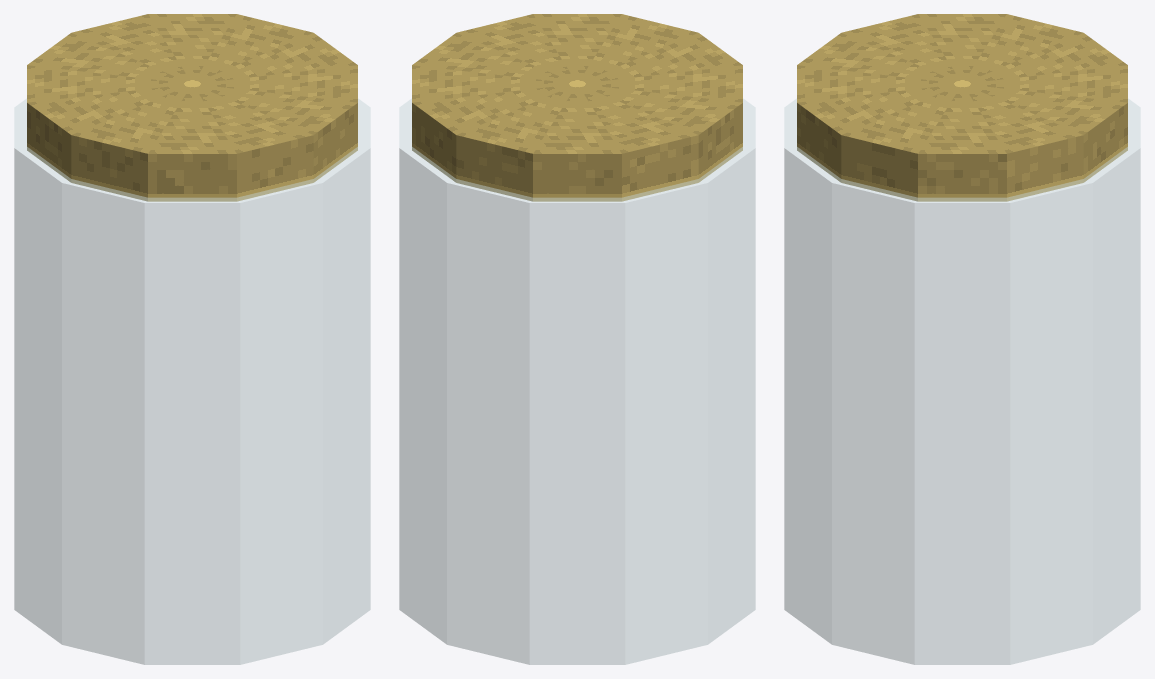
Rendered from jar_glass_sealed.glb.
3 views of the same model, side by side, from view 1: azimuth 30°, elevation 25°; view 2: azimuth 150°, elevation 25°; view 3: azimuth 270°, elevation 25° (orthographic).
Visible parts, largest first — view 1: block_jar, block_lid; view 2: block_jar, block_lid; view 3: block_jar, block_lid.
Part boxes in pixels (x1=…): block_jar: x1=14, y1=98, x2=370, y2=664; block_lid: x1=27, y1=14, x2=357, y2=201; block_jar: x1=399, y1=98, x2=755, y2=664; block_lid: x1=412, y1=14, x2=742, y2=201; block_jar: x1=784, y1=98, x2=1140, y2=664; block_lid: x1=797, y1=14, x2=1127, y2=201.
Bounding box in the file's own units: 0.0811 × 0.127 × 0.0811.
Materials: 2 (2 with a texture image).
